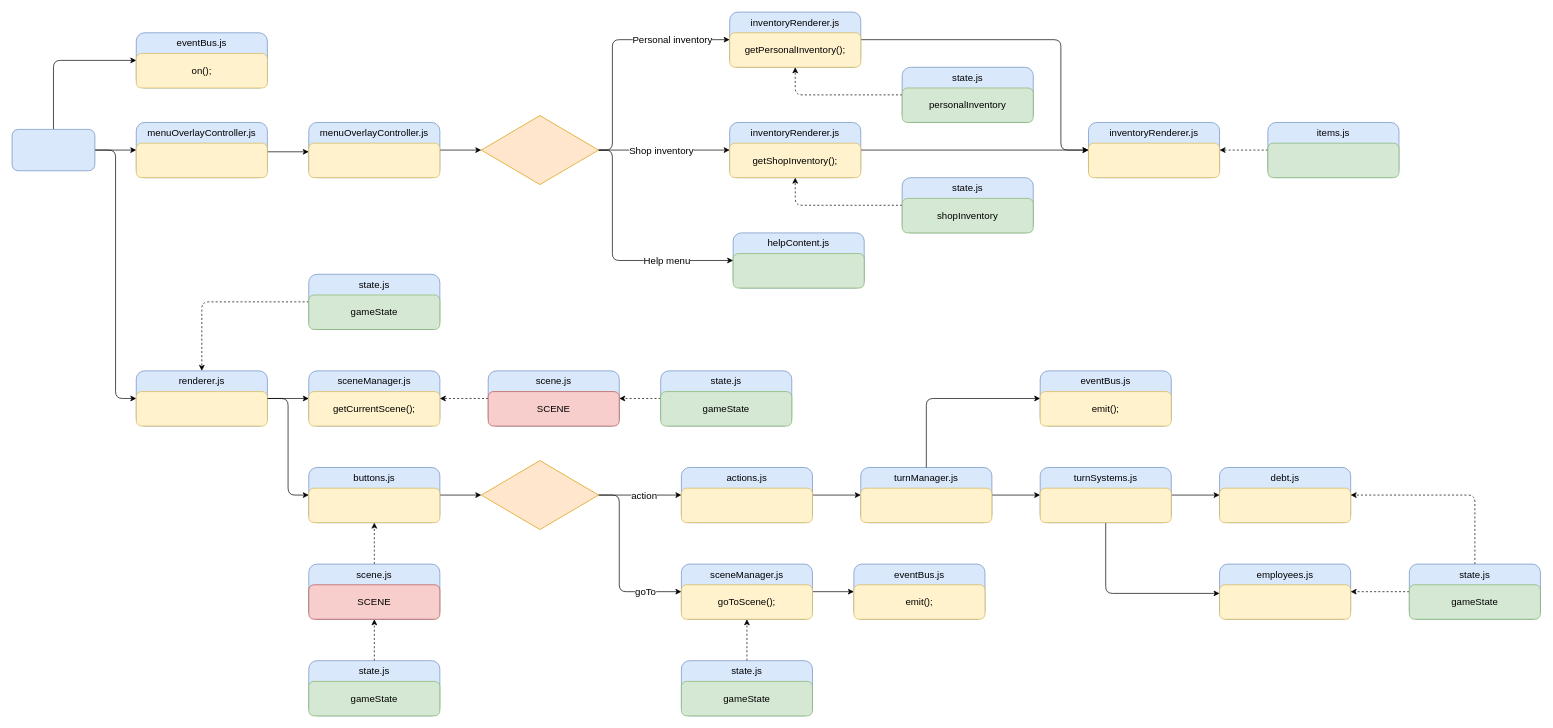
This 1553x728 diagram has some shape labels left out. The shapes that lost their labels are listed below. From the top down, each one's centre as x and y in pixels, then its label:
point (53, 150): Main.js
point (201, 160): setupOverlay();
point (374, 160): setupMenuButtons();
point (540, 150): onclick [menuButton]
point (1154, 160): renderInventory();
point (1333, 160): ITEMS
point (798, 270): helpContent
point (201, 408): render();
point (374, 505): handleOption();
point (540, 495): option type?
point (746, 505): [action]();
point (926, 505): advanceTurn();
point (1105, 505): runTurnSystems();
point (1285, 505): processDebt();
point (1285, 601): processEmployees();
